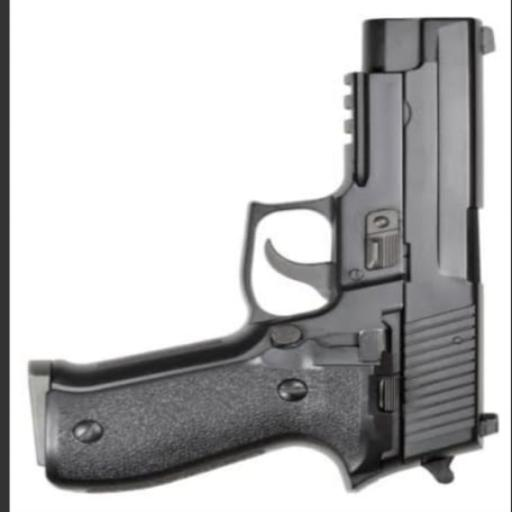Gun: (31, 19, 496, 489), (31, 20, 479, 489)
